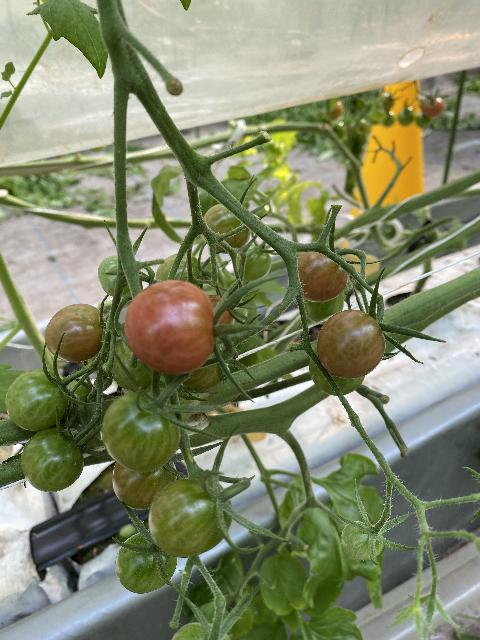l_fully_ripened: (124, 280, 216, 374)
l_green: (149, 477, 234, 558), (102, 388, 183, 472), (19, 425, 84, 492), (116, 527, 179, 594), (5, 369, 67, 432), (113, 459, 177, 510), (308, 341, 366, 396), (110, 337, 161, 390), (199, 204, 251, 255), (340, 520, 385, 560), (154, 253, 203, 288), (234, 243, 272, 281), (97, 256, 132, 297), (304, 291, 345, 324), (171, 623, 232, 640)
l_half_ripened: (317, 310, 388, 378), (45, 303, 106, 363), (176, 333, 229, 392), (295, 250, 349, 302), (208, 296, 237, 341)
